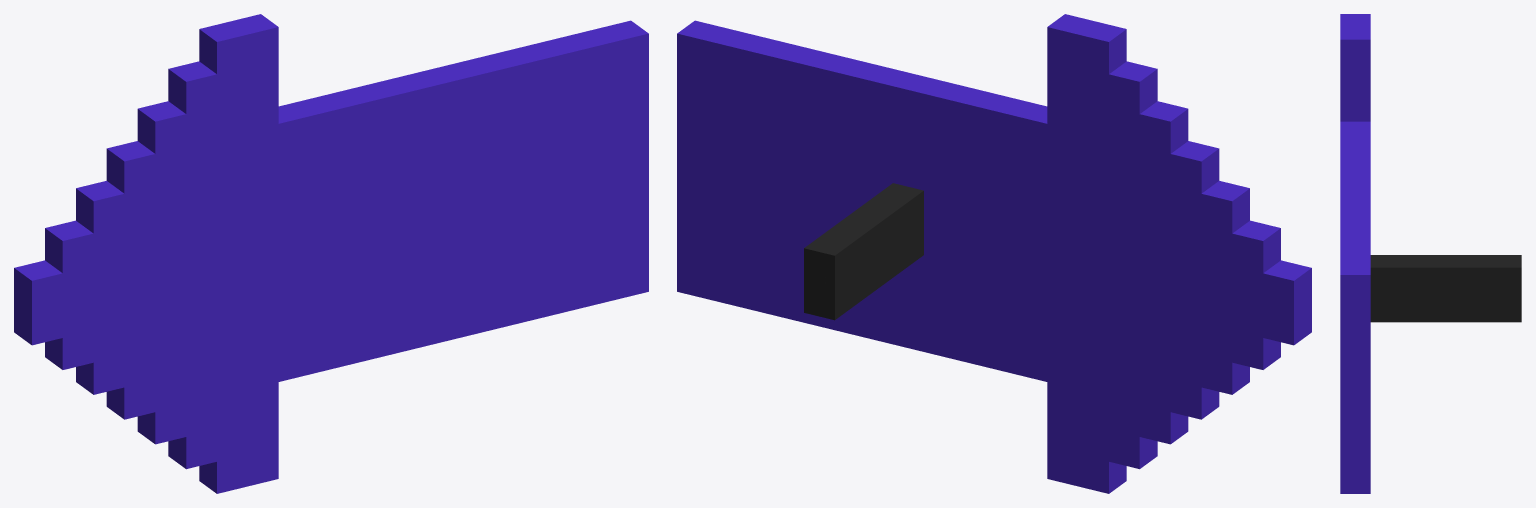
Rendered from ArrowPotionShop.obj.
The picture shows the model from 3 angles, left to right: view 1: azimuth 30°, elevation 25°; view 2: azimuth 150°, elevation 25°; view 3: azimuth 270°, elevation 25°; orthographic projection. The views are drawn at different scales.
Bounding box in the file's own units: 2 × 1.4 × 0.6.
1 material, 1 textured.
